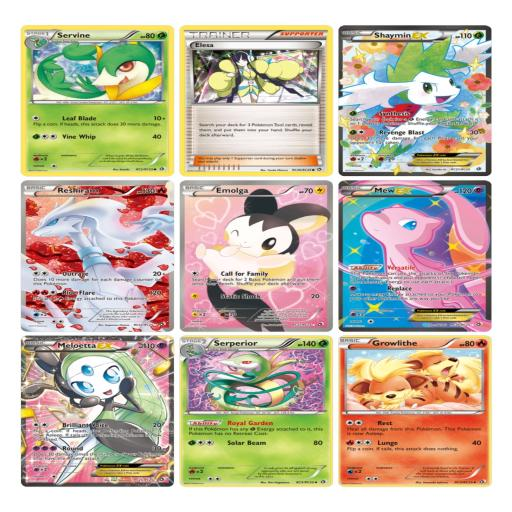card: (179, 25, 333, 177), (20, 180, 174, 332), (179, 180, 333, 332), (180, 335, 333, 487), (339, 335, 492, 487), (21, 25, 174, 177), (339, 180, 492, 332), (21, 335, 174, 487), (339, 25, 492, 176)
